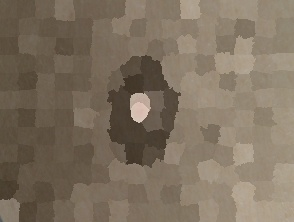vitiligo: (70, 29, 223, 187)
